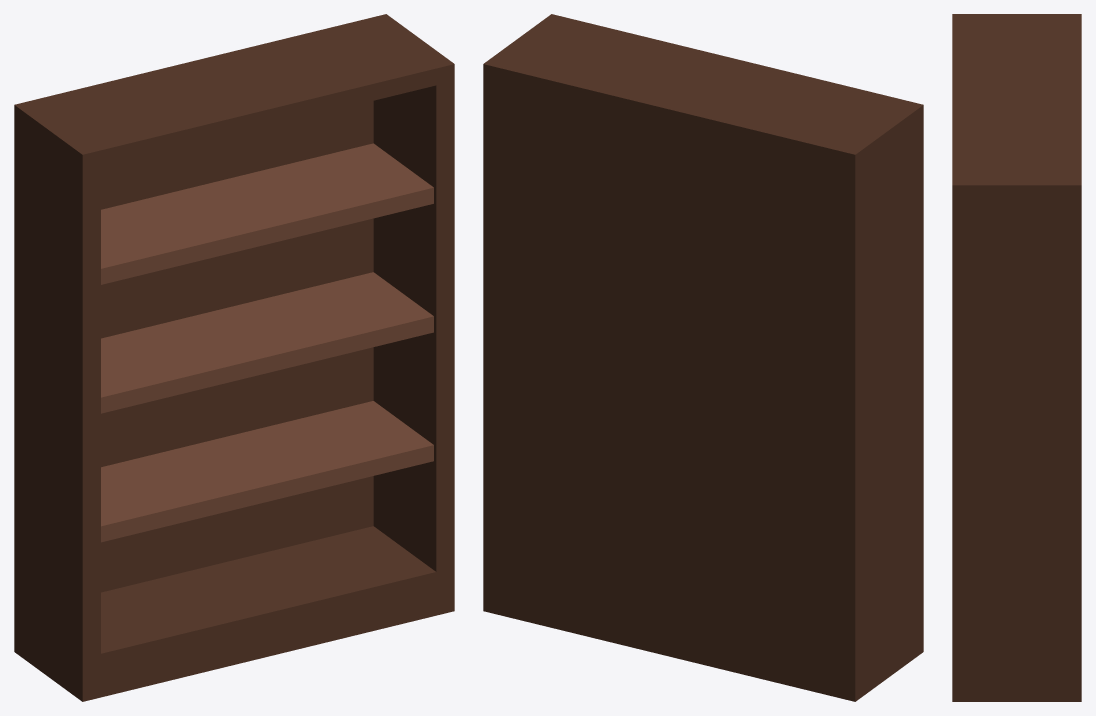
Rendered from Shelves_4B.fbx.
3 renders of one model, left to right at view 1: azimuth 30°, elevation 25°; view 2: azimuth 150°, elevation 25°; view 3: azimuth 270°, elevation 25°, orthographic. The views are drawn at different scales.
Parts seen in each view (by area): view 1: polySurface1688; view 2: polySurface1688; view 3: polySurface1688.
Part boxes in pixels (x1=…): polySurface1688: x1=14, y1=14, x2=454, y2=701; polySurface1688: x1=483, y1=14, x2=923, y2=701; polySurface1688: x1=952, y1=14, x2=1081, y2=701.
Size of the model in its own units: 2.42 by 3.4 by 0.7702.
1 material, 1 textured.
